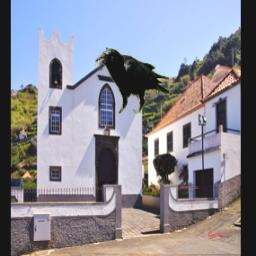Crow: (93, 49, 169, 114)
